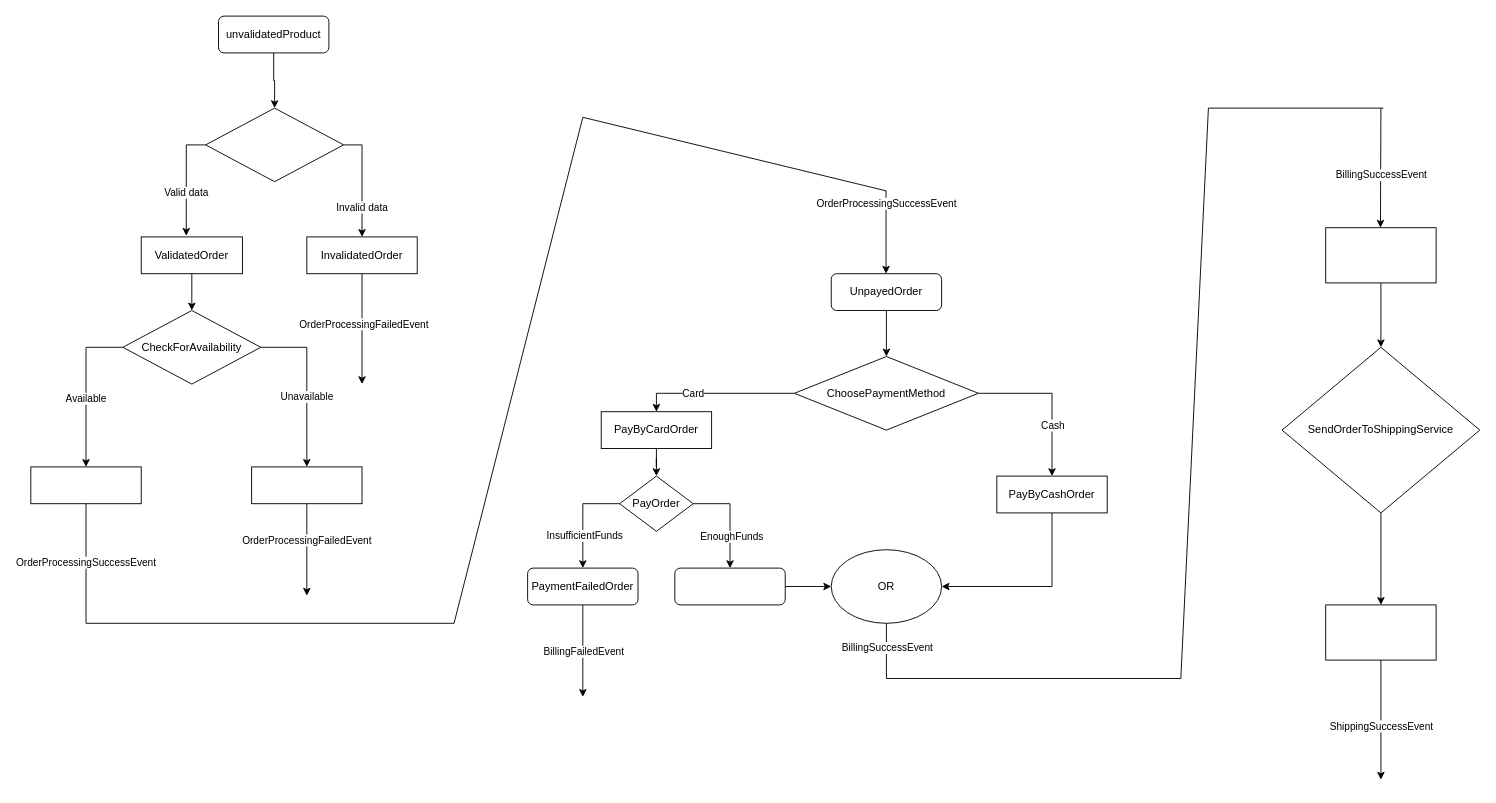
The diagram is 1496 pixels wide and 803 high, and some of its shapes have lost their labels. Each missing label, with the centre of its shape:
"AvailableOrder" belongs at point 85,485.
"PayedOrder" belongs at point 729,586.
"ShippedOrder" belongs at point 1380,632.
"UnavailableOrder" belongs at point 306,485.
"UnshippedOrder" belongs at point 1380,255.
"ValidateEntryData" belongs at point 274,144.
